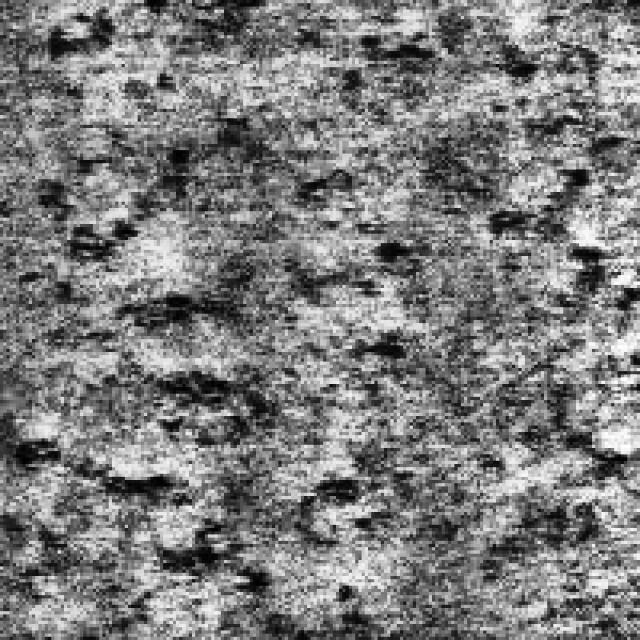Crazing: (35, 141, 384, 573)
